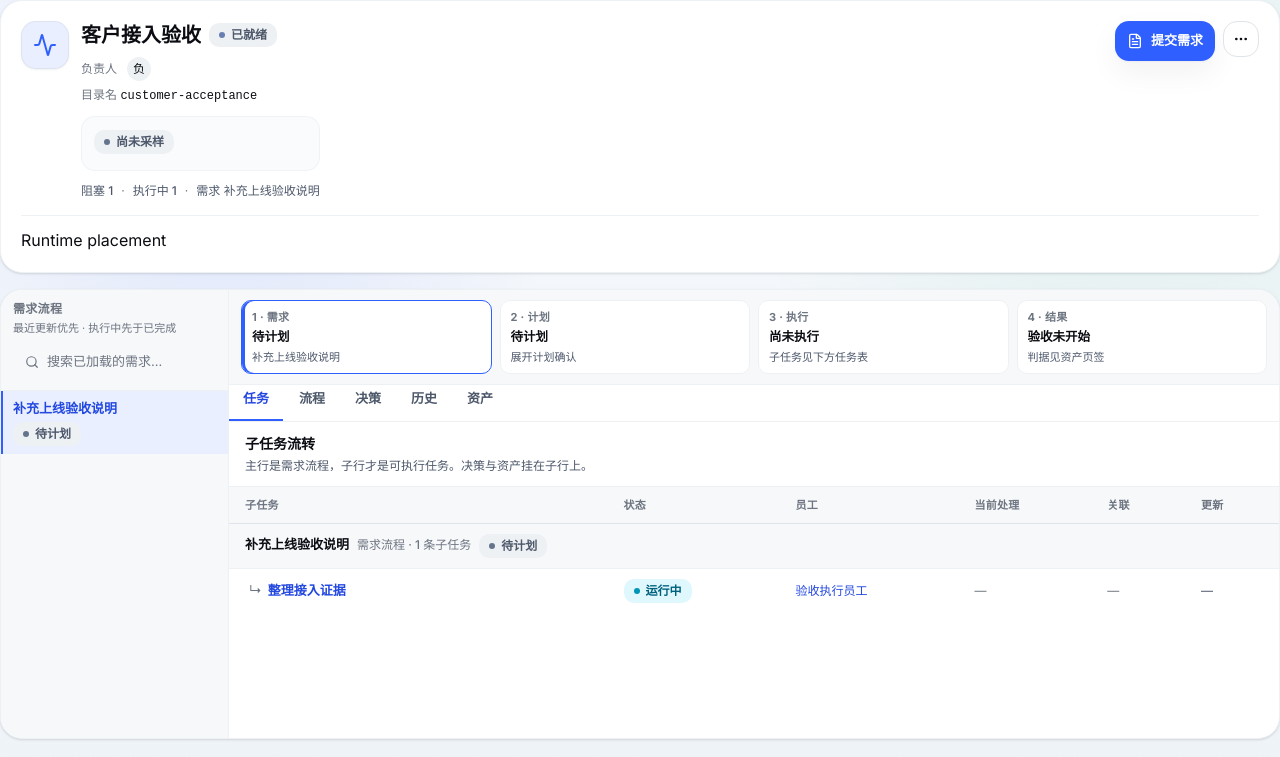
Test: ProjectOperationalDetail › opens the same task detail dialog from the tasks tab title
The image size is (1280, 757).
Click the button "整理接入证据" at (307,591), box left=268, top=581, right=346, bottom=601
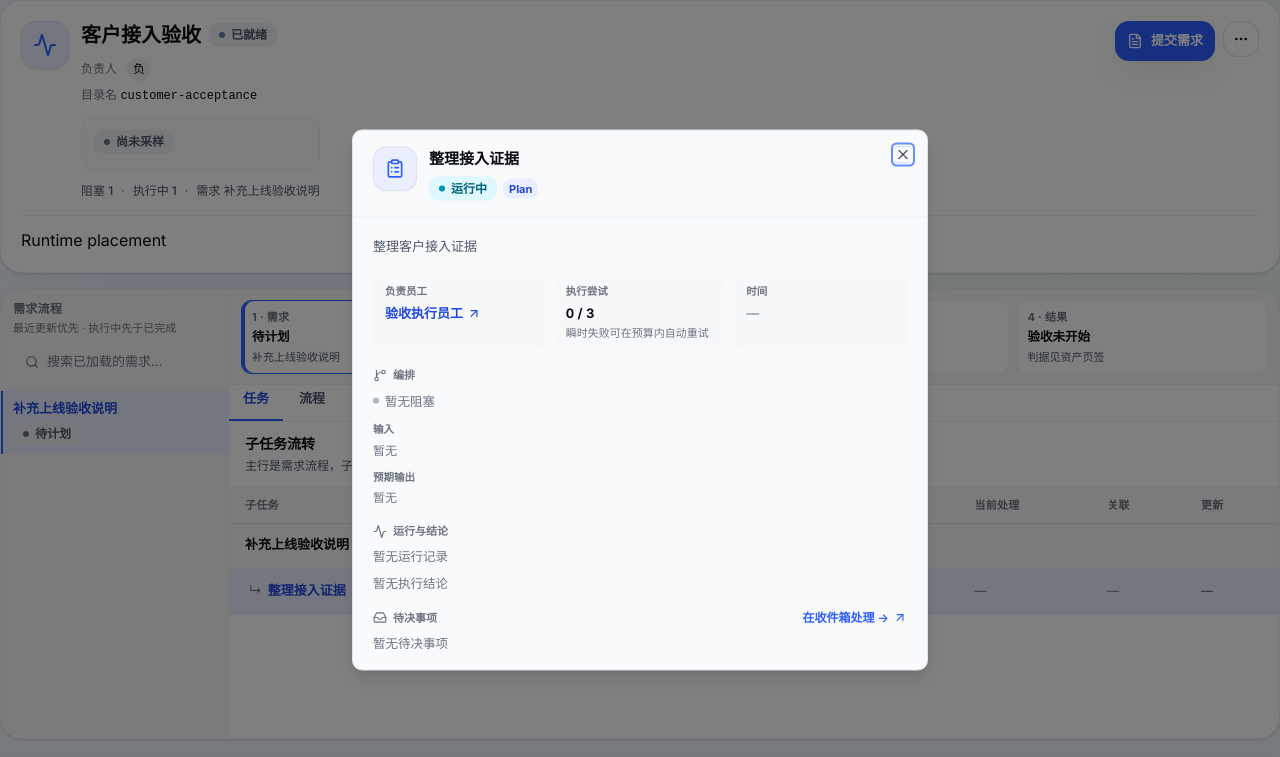
Result: the dialog with test id "project-task-detail-dialog" is shown at left=352, top=130, right=928, bottom=670
